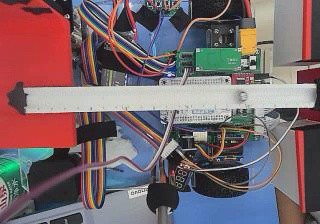ironball: (237, 90, 247, 101)
